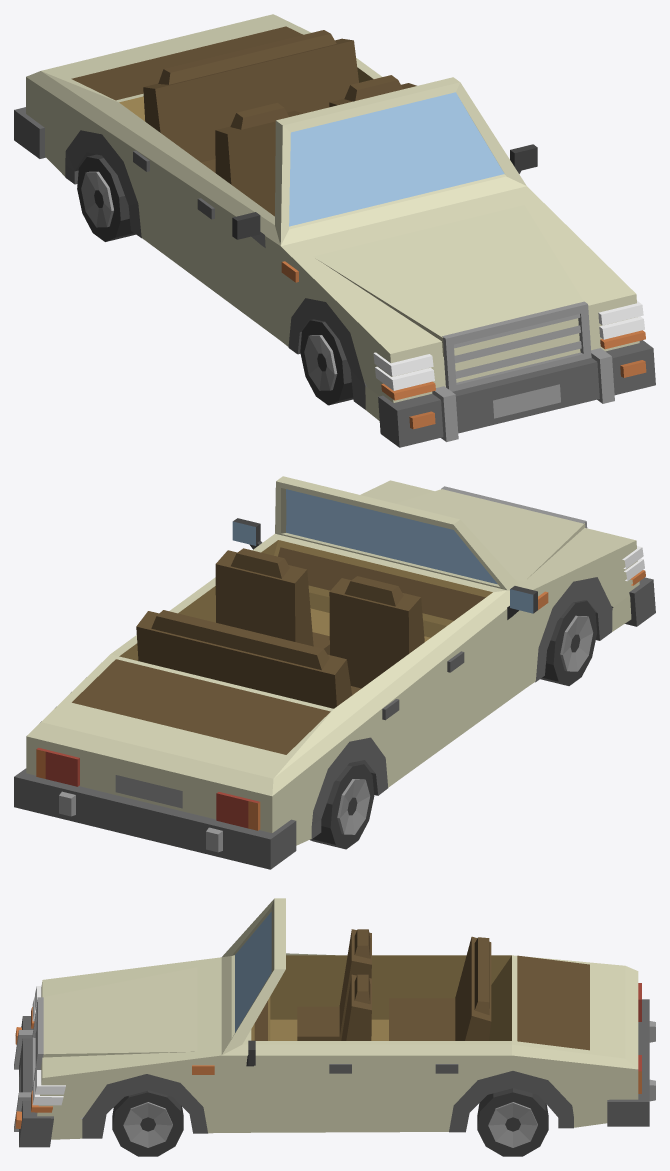
Rendered from transport_cool_001.fbx.
3 views of the same model, one above another, from view 1: azimuth 30°, elevation 25°; view 2: azimuth 150°, elevation 25°; view 3: azimuth 270°, elevation 25° (orthographic). The views are drawn at different scales.
Parts seen in each view (by area): view 1: transport_cool_001; view 2: transport_cool_001; view 3: transport_cool_001.
Boxes of the visible parts, box(x1,y1,x2,y2) form: transport_cool_001: box(14, 14, 655, 447); transport_cool_001: box(14, 476, 655, 869); transport_cool_001: box(14, 898, 655, 1156).
Bounding box in the file's own units: 148 × 98.74 × 334.
